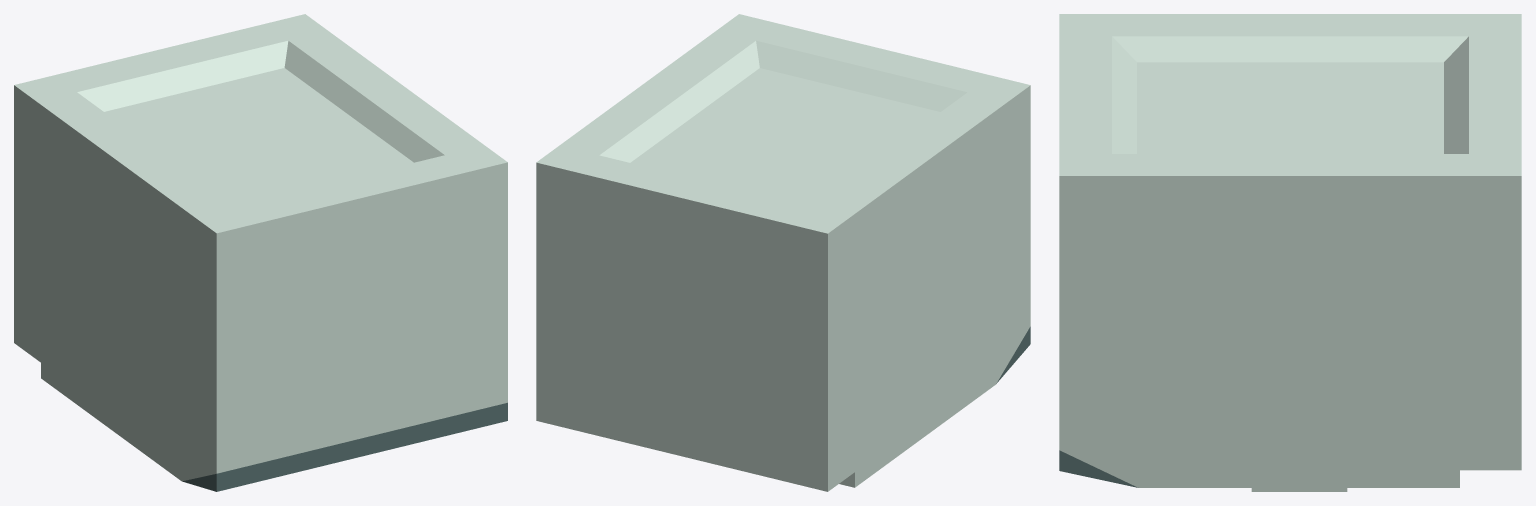
File: dryer.obj
3 views of the same model, side by side, from view 1: azimuth 30°, elevation 25°; view 2: azimuth 150°, elevation 25°; view 3: azimuth 270°, elevation 25° (orthographic). The views are drawn at different scales.
Parts seen in each view (by area): view 1: dryer; view 2: dryer; view 3: dryer.
Boxes of the visible parts, x1,y1,x2,y2 form: dryer: (14,14,507,491); dryer: (536,14,1030,491); dryer: (1059,14,1521,491).
Bounding box in the file's own units: 29.87 × 29.11 × 36.
